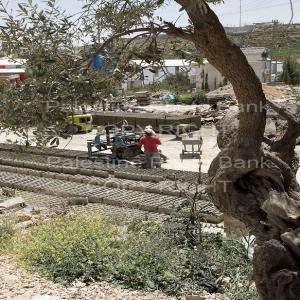white: (144, 129, 154, 136)
